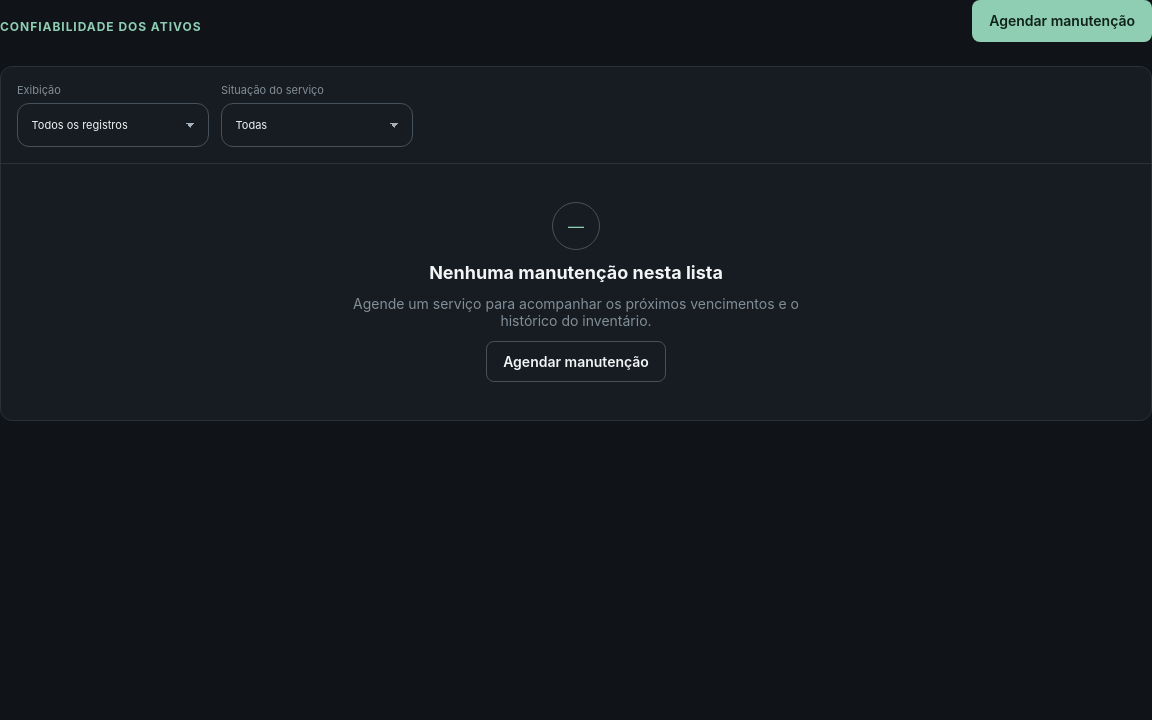
Test: MaintenanceListComponent › opens the creation form and prevents saving an incomplete request
Click the button "Agendar manutenção" in the row of "Confiabilidade dos ativos" at (1062, 21), box [972,0,1151,42]
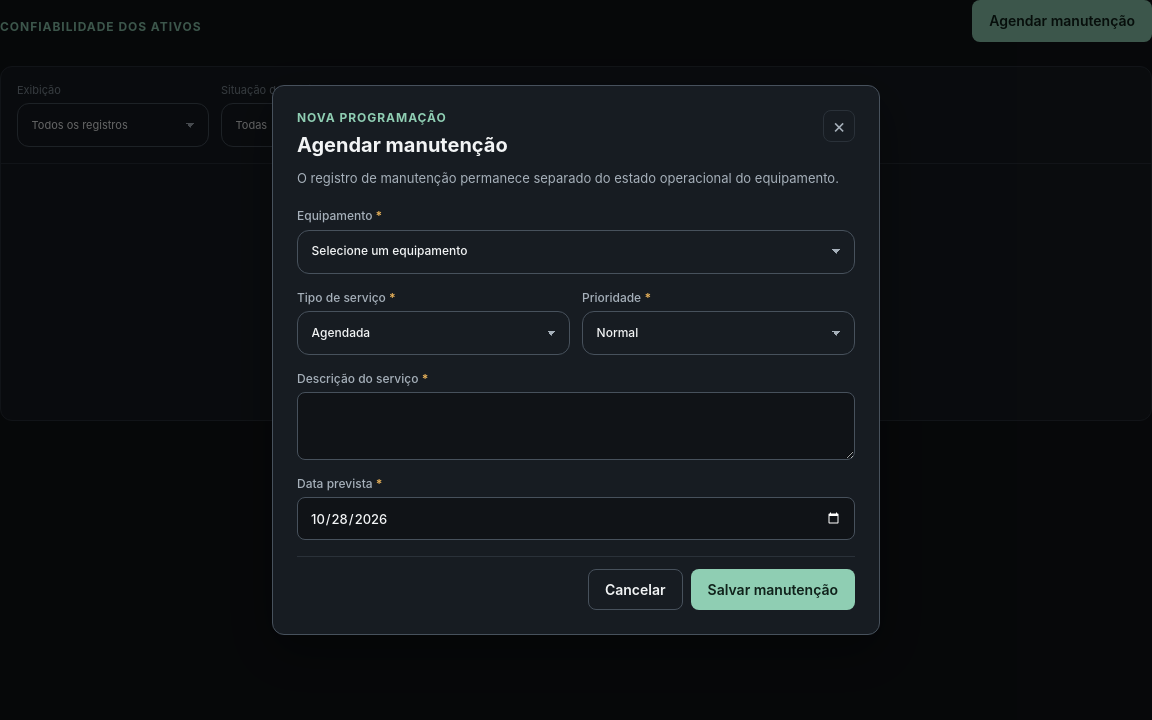
Check: the dialog is shown, box [272,85,880,635]
Submit the form, box [297,208,855,610]
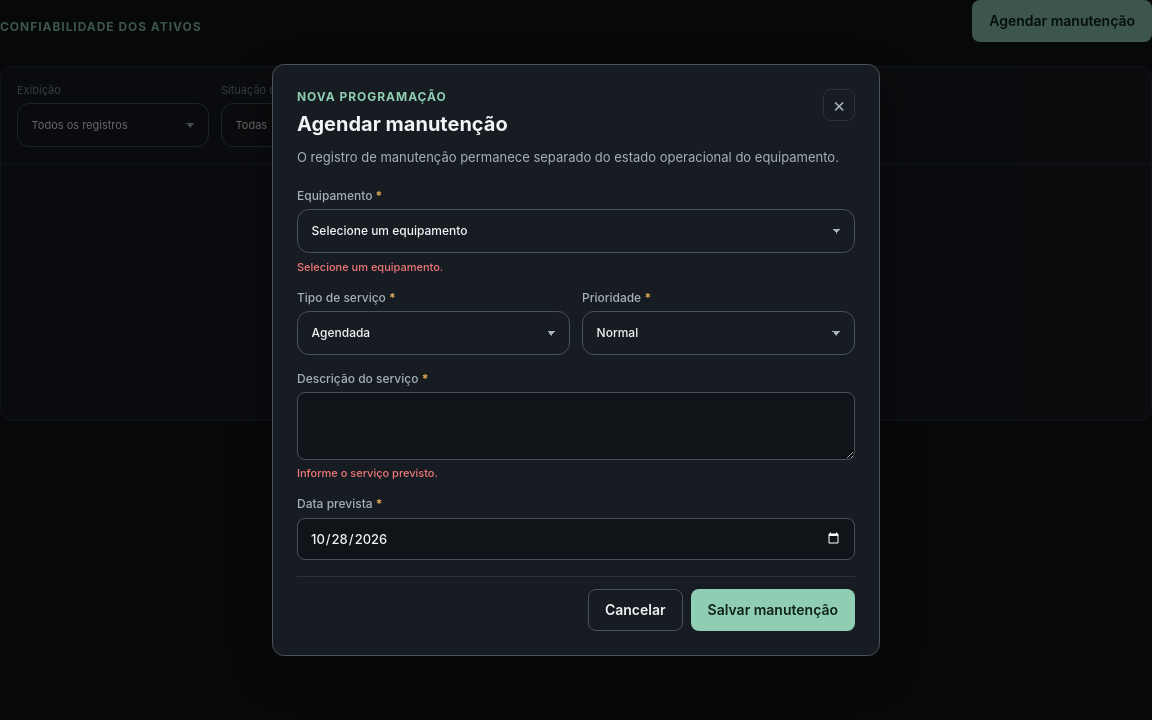
Check: the text "Selecione um equipamento." is shown, box [297,260,443,274]
